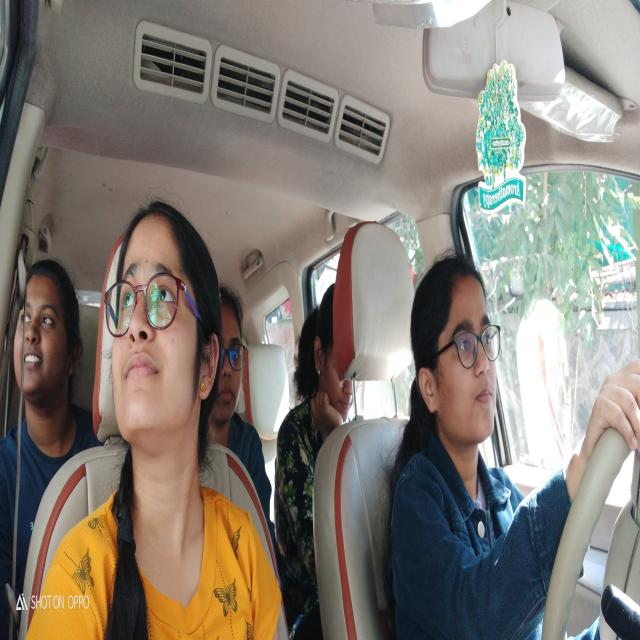person: (108, 196, 224, 452), (411, 260, 507, 443), (12, 250, 82, 415), (297, 274, 356, 419), (216, 287, 243, 423)
